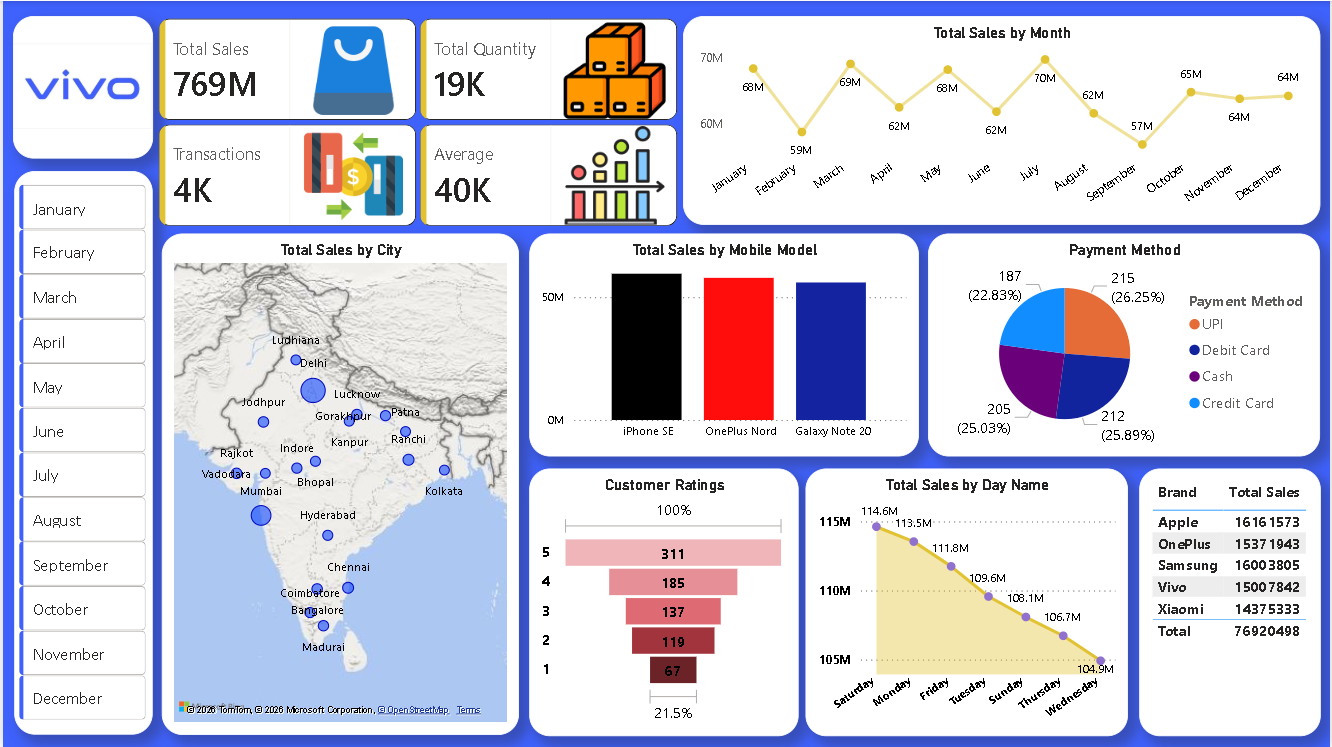

This screenshot's page, from the dashboard's own definition file:
{"tool":"powerbi","page":{"name":"Page 1","canvas":[1280,720],"ordinal":0},"visuals":[{"type":"shape","box":[9.7,14.5,135.1,137.5],"z":0},{"type":"image","box":[10,38.8,133.8,87.5],"z":1000},{"type":"shape","box":[10.9,164.1,133.9,544.1],"z":2000},{"type":"advancedSlicerVisual","fields":{"Values":["Sales Data.Date.Variation.Date Hierarchy.Month"]},"box":[10.9,172.5,132.7,535.7],"z":3000},{"type":"cardVisual","fields":{"Data":["Sales Data.Total Sales","Sales Data.Total Quantity","Sales Data.Tranactions","Sales Data.Average"]},"box":[133.9,35,534.5,235.3],"z":4000},{"type":"map","fields":{"Category":["Sales Data.City"],"Size":["Sales Data.Total Sales"]},"box":[153.2,255.8,345,452.4],"z":5000},{"type":"lineChart","fields":{"Y":["Sales Data.Total Sales"],"Category":["Sales Data.Date.Variation.Date Hierarchy.Month","Sales Data.Date.Variation.Date Hierarchy.Day"]},"box":[656.3,54.3,615.3,194.2],"z":6000},{"type":"columnChart","fields":{"Category":["Sales Data.Mobile Model"],"Y":["Sales Data.Total Sales"]},"box":[507.9,255.8,376.4,199.1],"z":7000},{"type":"pieChart","title":" Payment Method","fields":{"Category":["Sales Data.Payment Method"],"Y":["Sales Data.Transactions"]},"box":[892.8,255.8,378.8,199.1],"z":8000},{"type":"funnel","title":"Customer Ratings ","fields":{"Category":["Sales Data.Customer Ratings"],"Y":["CountNonNull(Sales Data.Customer Ratings)"]},"box":[507.9,464.5,259.4,246.1],"z":9000},{"type":"areaChart","fields":{"Category":["Sales Data.Day Name"],"Y":["Sales Data.Total Sales"]},"box":[774.5,464.5,311.3,246.1],"z":10000},{"type":"tableEx","fields":{"Values":["Sales Data.Brand","Sales Data.Total Sales"]},"box":[1094.2,464.5,177.3,246.1],"z":11000},{"type":"textbox","box":[153.2,0,1118.4,50.7],"z":11001}]}

Visuals, with their boxes in screenshot pixels (x1, y1, x2, y2), scaled from the page's 1280x720 canvas onto the 1332x747 screenshot:
shape: (10, 15, 151, 158)
image: (10, 40, 150, 131)
shape: (11, 170, 151, 735)
advancedSlicerVisual - Sales Data.Date.Variation.Date Hierarchy.Month: (11, 179, 149, 735)
cardVisual - Sales Data.Total Sales x Sales Data.Total Quantity: (139, 36, 696, 280)
map - Sales Data.City x Sales Data.Total Sales: (159, 265, 518, 735)
lineChart - Sales Data.Total Sales x Sales Data.Date.Variation.Date Hierarchy.Month: (683, 56, 1323, 258)
columnChart - Sales Data.Mobile Model x Sales Data.Total Sales: (529, 265, 920, 472)
" Payment Method" pieChart: (929, 265, 1323, 472)
"Customer Ratings " funnel: (529, 482, 798, 737)
areaChart - Sales Data.Day Name x Sales Data.Total Sales: (806, 482, 1130, 737)
tableEx - Sales Data.Brand x Sales Data.Total Sales: (1139, 482, 1323, 737)
textbox: (159, 0, 1323, 53)
